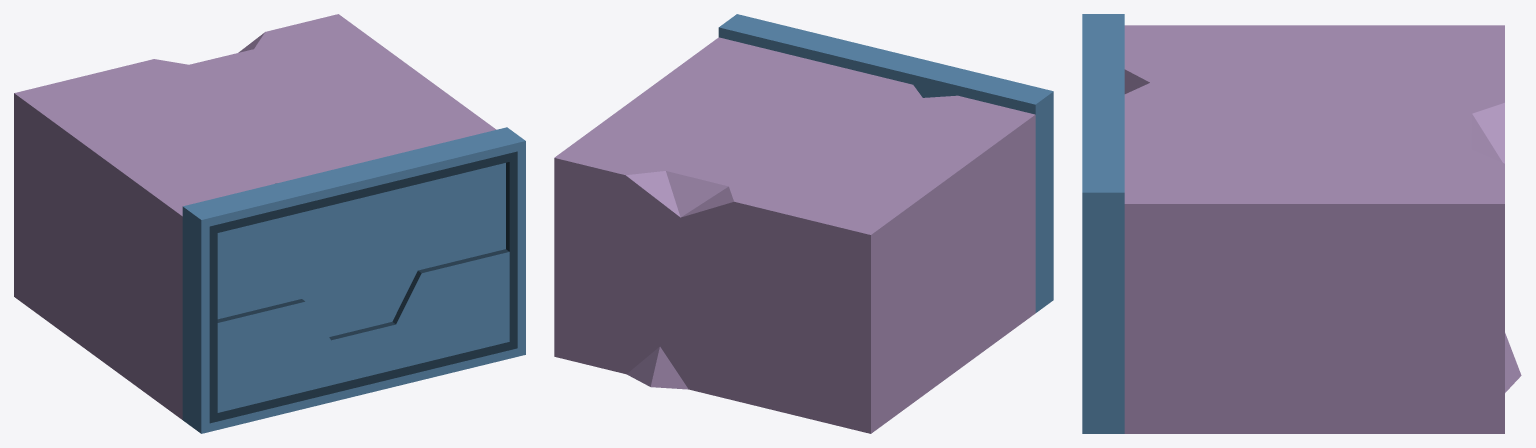
Rendered from Wall.004.fbx.
3 views of the same model, side by side, from view 1: azimuth 30°, elevation 25°; view 2: azimuth 150°, elevation 25°; view 3: azimuth 270°, elevation 25° (orthographic). The views are drawn at different scales.
Visible parts, largest first — view 1: Wall.004; view 2: Wall.004; view 3: Wall.004.
Part boxes in pixels (bbox=[...]): Wall.004: bbox=[14, 14, 525, 433]; Wall.004: bbox=[554, 14, 1053, 433]; Wall.004: bbox=[1082, 14, 1521, 433].
Bounding box in the file's own units: 1000 × 630 × 1039.
